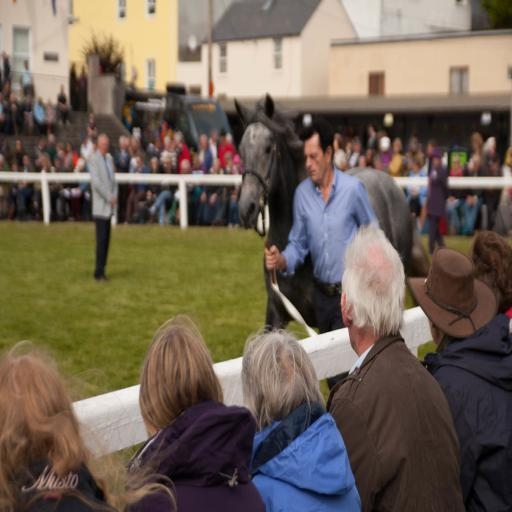Horse: (234, 94, 415, 334)
